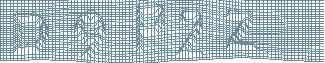2: (175, 9, 206, 59)
9: (73, 10, 107, 60)
D: (10, 12, 50, 56)
P: (131, 1, 167, 54)
Z: (223, 8, 259, 52)
